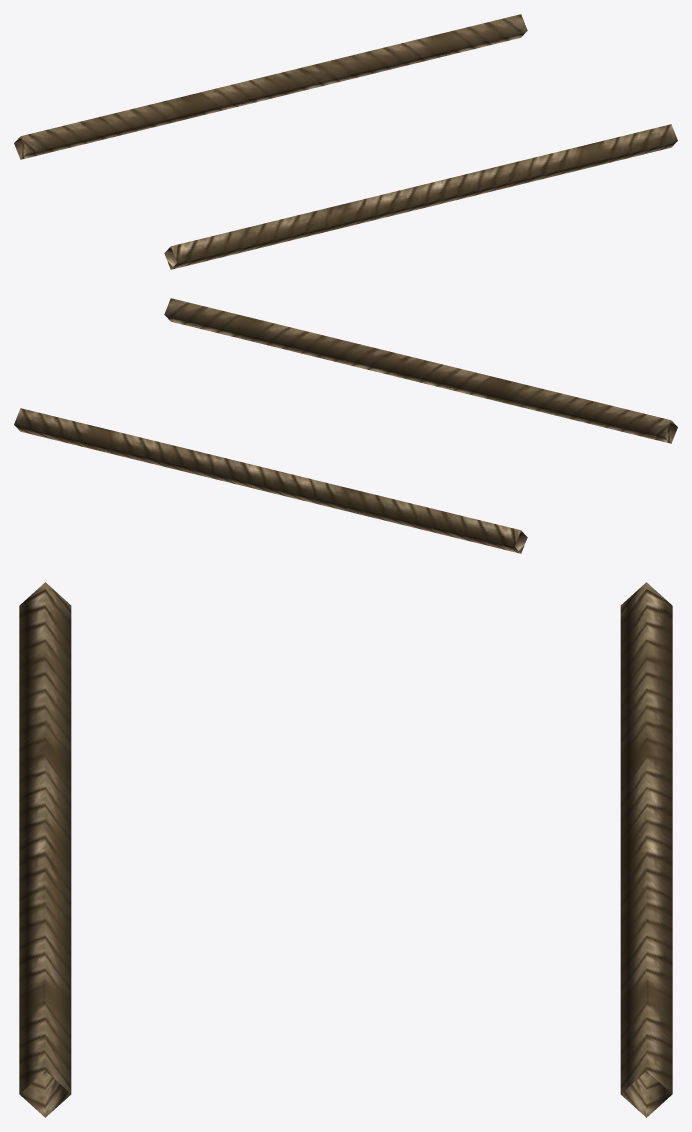
Rendered from rope_bridge_holding_2.fbx.
3 renders of one model, top to bottom at view 1: azimuth 30°, elevation 25°; view 2: azimuth 150°, elevation 25°; view 3: azimuth 270°, elevation 25°, orthographic. The views are drawn at different scales.
Visible parts, largest first — view 1: rope_bridge_holding_2; view 2: rope_bridge_holding_2; view 3: rope_bridge_holding_2.
Part boxes in pixels (x1=…): rope_bridge_holding_2: x1=14, y1=14, x2=677, y2=269; rope_bridge_holding_2: x1=14, y1=298, x2=677, y2=553; rope_bridge_holding_2: x1=19, y1=582, x2=672, y2=1117.
Bounding box in the file's own units: 200 × 9 × 113.
